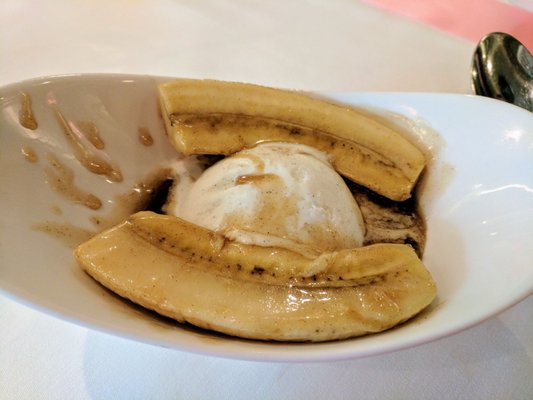pasta: (157, 78, 434, 205)
salad: (470, 32, 533, 115)
